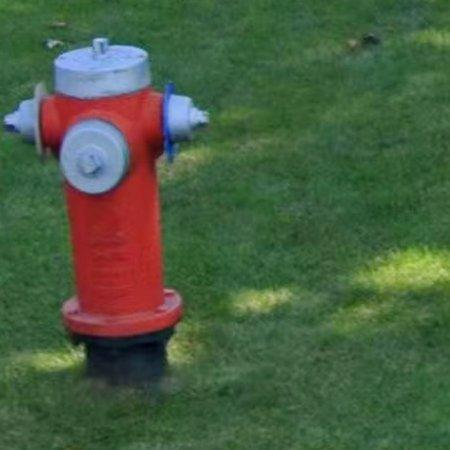a fire hydrant: (3, 38, 209, 384)
